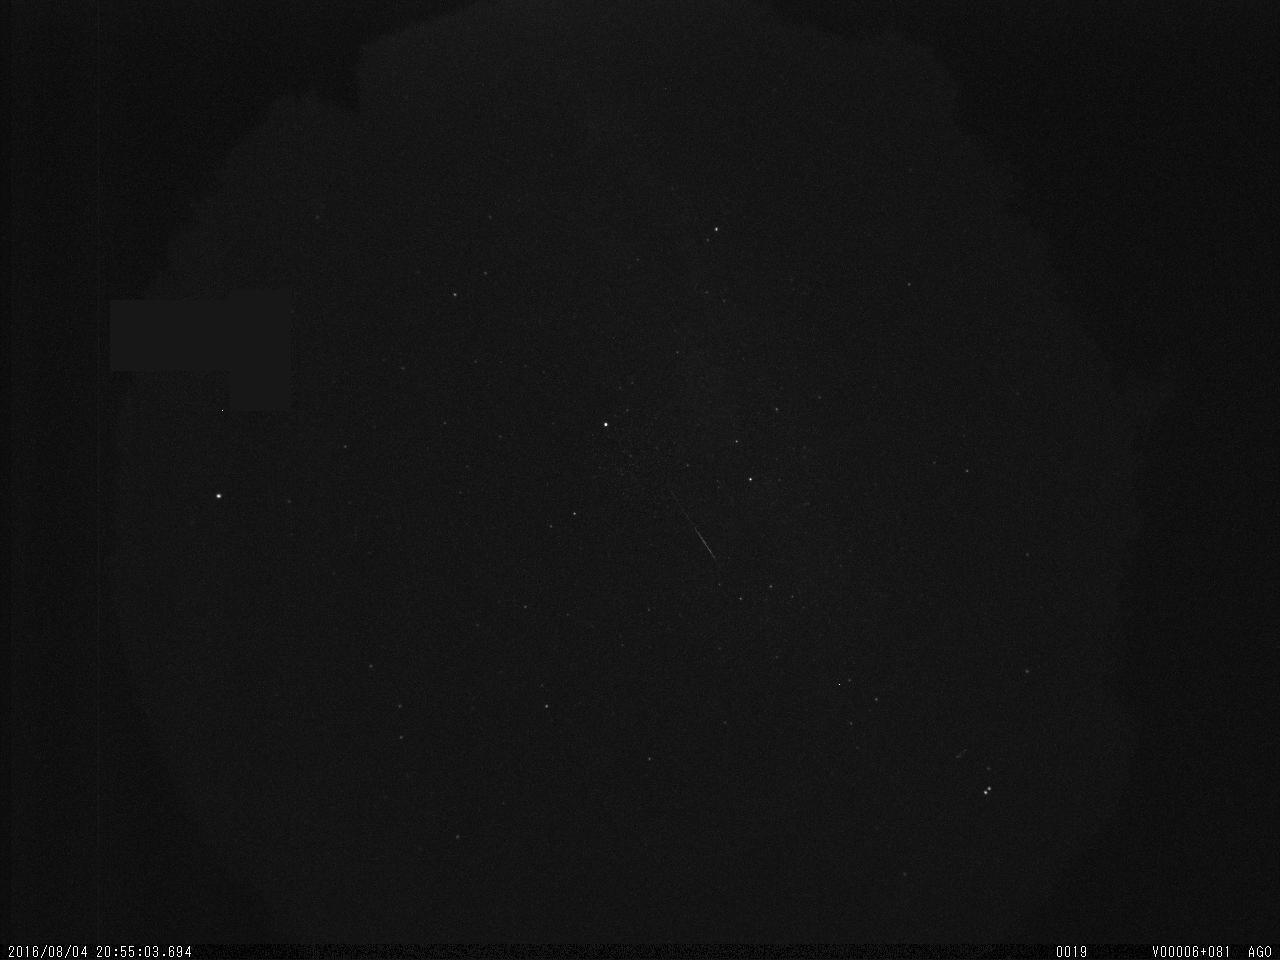meteor: (655, 469, 725, 578)
